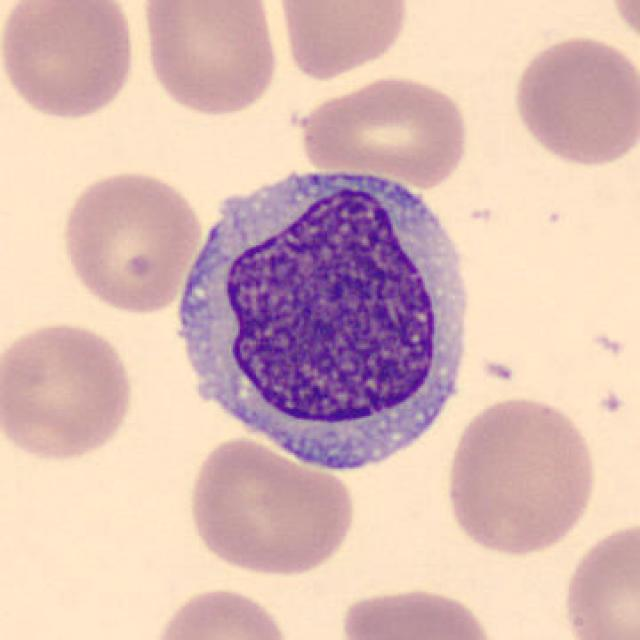Monocyte: (157, 150, 487, 488)
RBC: (441, 390, 603, 560), (181, 434, 359, 578), (55, 166, 206, 317), (0, 316, 139, 466), (295, 72, 473, 185), (507, 30, 638, 171), (137, 0, 283, 120), (0, 0, 140, 123), (272, 0, 414, 81), (558, 516, 638, 640), (338, 582, 501, 640), (146, 582, 295, 640), (602, 0, 640, 53)
